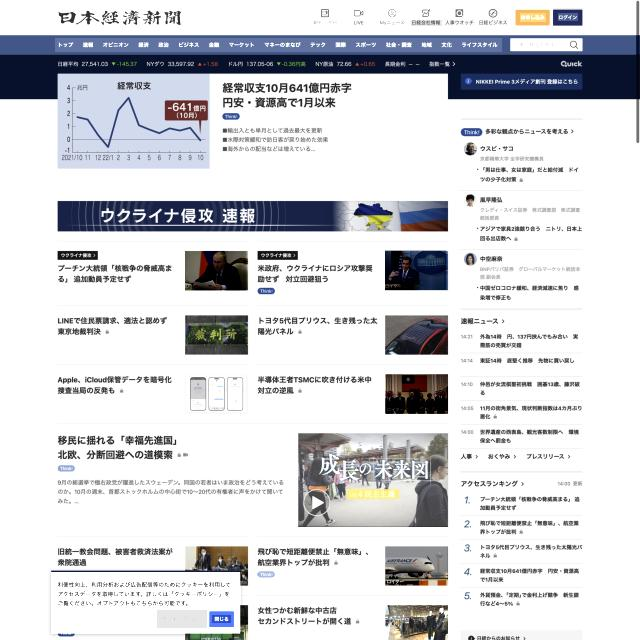CheckBox: (157, 610, 207, 628), (515, 8, 550, 26), (553, 8, 583, 26), (209, 610, 234, 628)
CheckedTextView: (510, 38, 583, 51)
ImageView: (57, 200, 448, 232)
RadioButton: (56, 464, 76, 473), (258, 570, 275, 578)
bag: (1, 4, 636, 55)
carousel: (418, 8, 432, 18), (353, 8, 365, 18), (387, 8, 398, 18), (568, 40, 580, 49), (320, 8, 330, 18), (454, 8, 464, 18), (488, 8, 498, 18)
copy: (298, 432, 448, 526), (185, 251, 248, 291), (185, 315, 248, 355), (385, 315, 448, 355), (386, 250, 448, 290), (386, 374, 448, 414), (385, 546, 447, 586), (384, 604, 449, 640), (186, 375, 246, 412)
data feed: (162, 614, 202, 624), (520, 13, 546, 22), (444, 19, 475, 26), (479, 19, 509, 26), (411, 20, 442, 26), (312, 19, 338, 26), (558, 13, 578, 21), (380, 20, 406, 26), (212, 615, 231, 623), (352, 20, 365, 26)
date picker: (55, 6, 183, 30)
decoration: (55, 38, 502, 52)
footer: (513, 41, 557, 48)
header: (51, 571, 241, 634)
